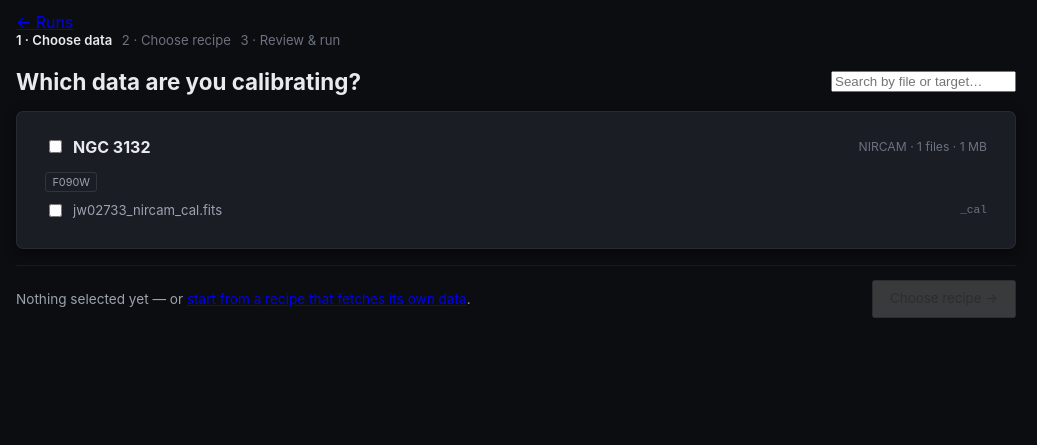
Test: CalibrateNew › filters the library by search
Expected: the text "NGC 3132" is shown, x1=73 y1=137 x2=150 y2=157
Step 1. Type "nothing" into the search field named "Search library" → point(924, 82), box x1=831 y1=71 x2=1016 y2=92
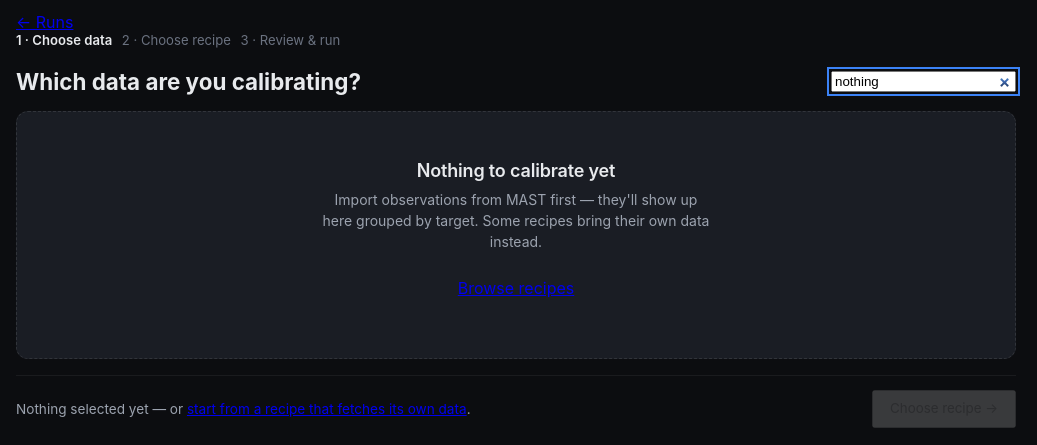
Expected: the text "NGC 3132" is gone
